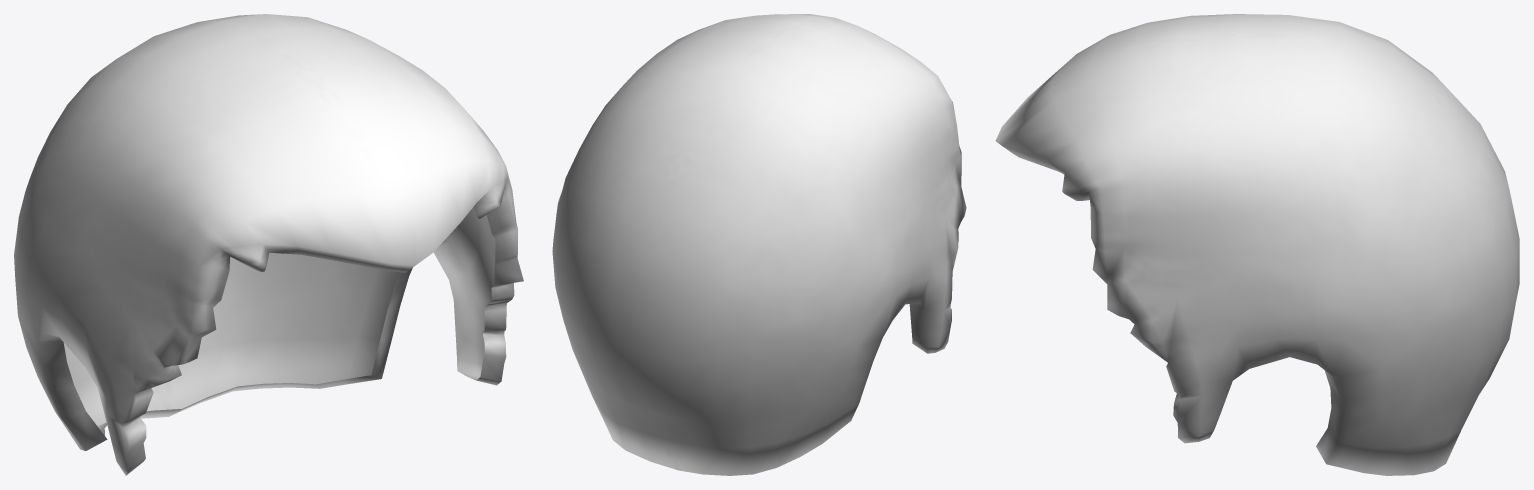
File: hair_buzzedfemale.glb
3 renders of one model, left to right at view 1: azimuth 30°, elevation 25°; view 2: azimuth 150°, elevation 25°; view 3: azimuth 270°, elevation 25°, orthographic. The views are drawn at different scales.
Visible parts, largest first — view 1: Hair_BuzzedFemale; view 2: Hair_BuzzedFemale; view 3: Hair_BuzzedFemale.
Boxes of the visible parts, x1,y1,x2,y2 form: Hair_BuzzedFemale: (14, 14, 523, 475); Hair_BuzzedFemale: (552, 14, 966, 475); Hair_BuzzedFemale: (995, 14, 1519, 475).
Size of the model in its own units: 0.1587 by 0.1702 by 0.1976.
1 material, 1 textured.
